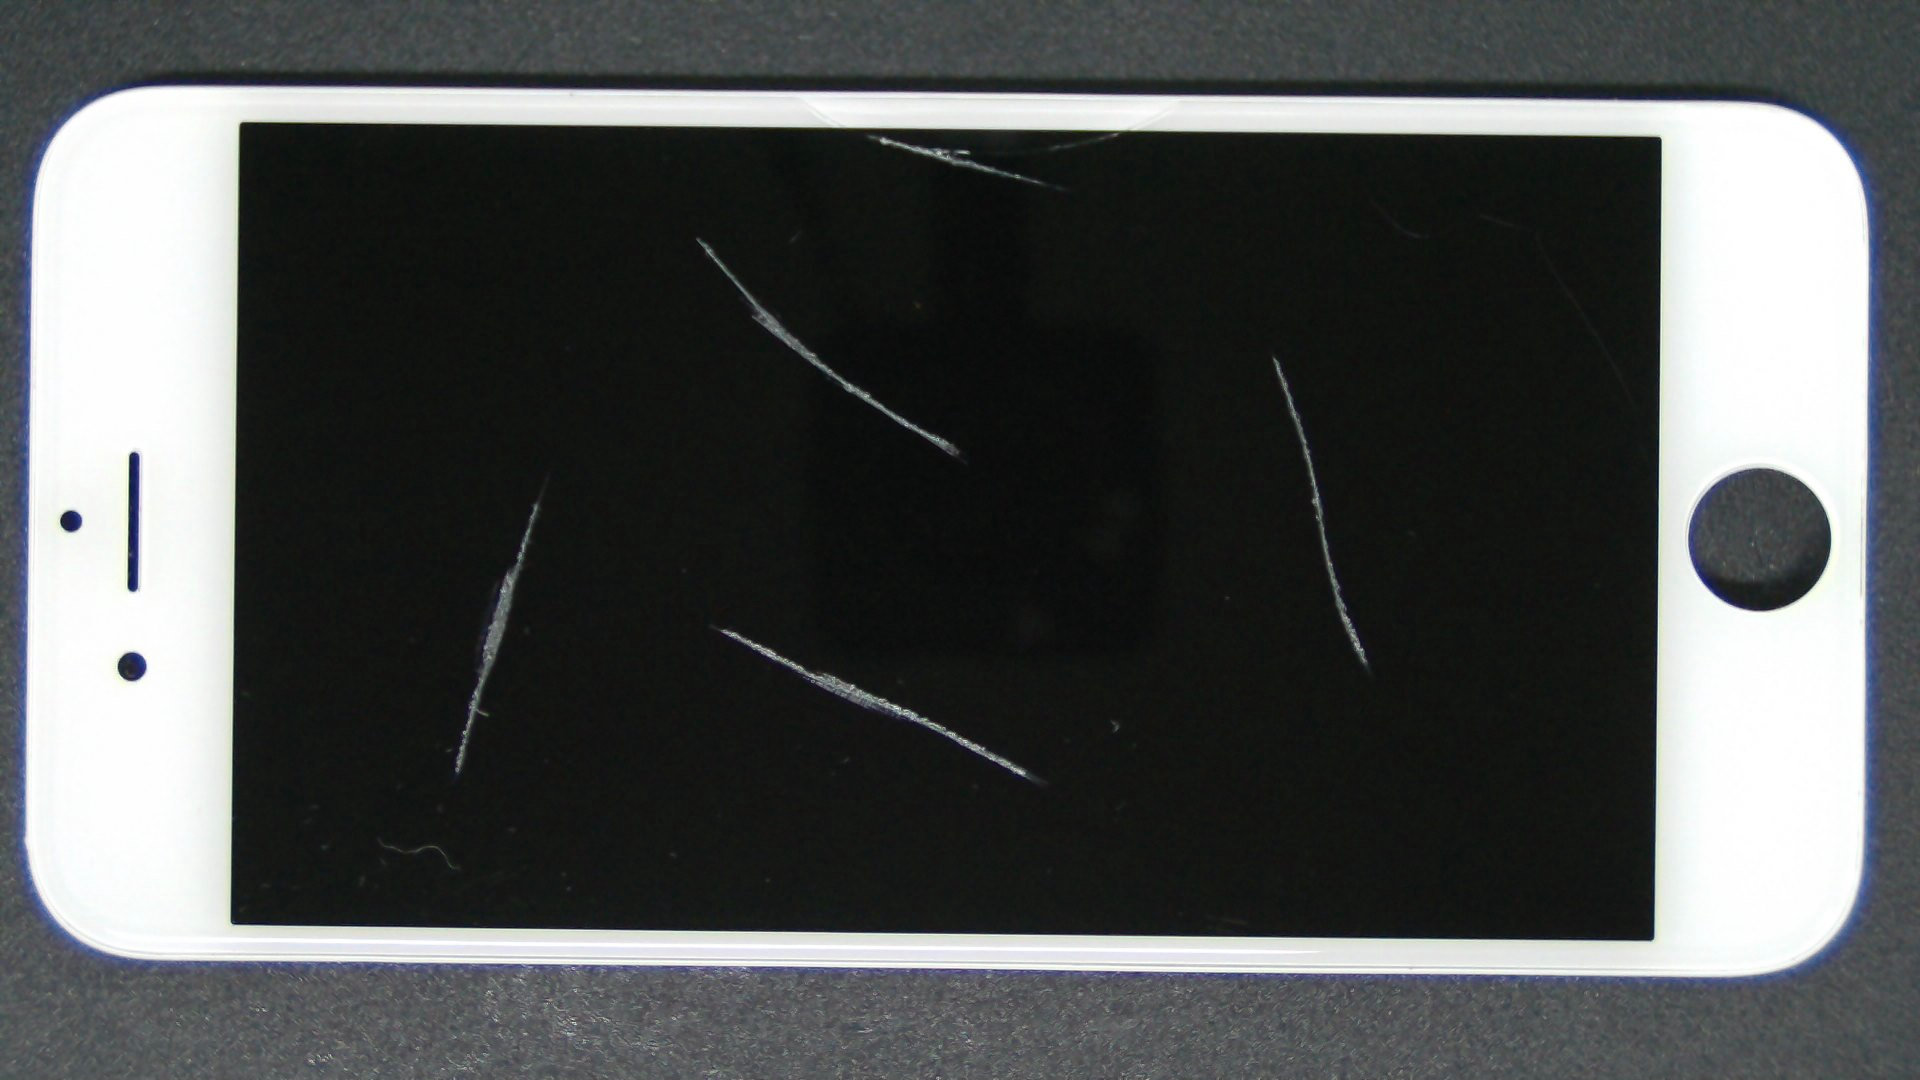oil: (637, 175, 1909, 534), (356, 311, 1065, 936), (266, 251, 799, 752), (348, 117, 1043, 355), (431, 66, 1299, 202)
